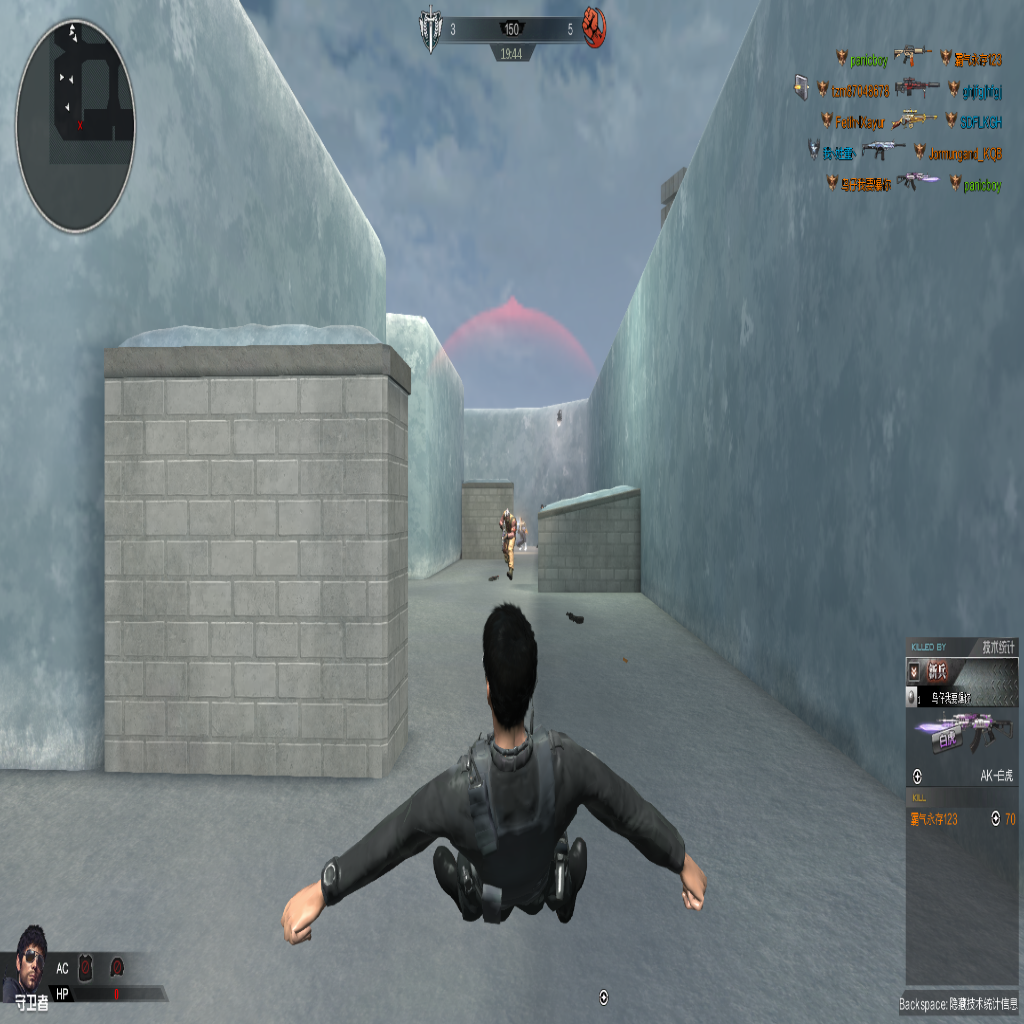tt: (500, 511, 517, 576)
